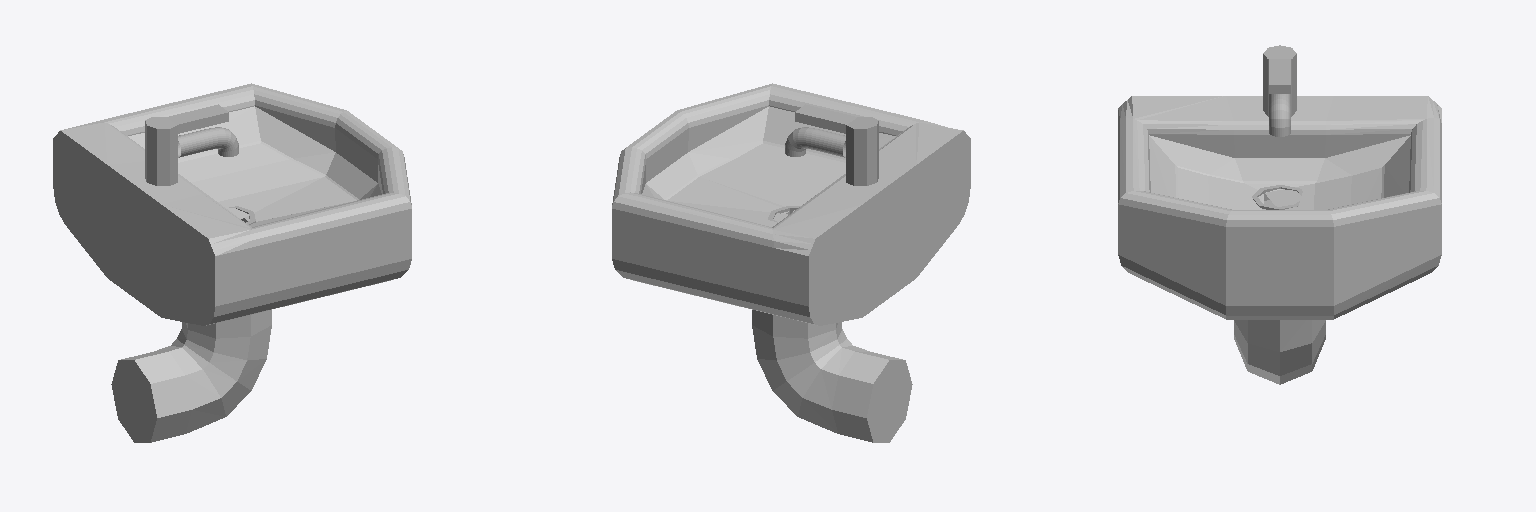
File: washbasin.obj
3 views of the same model, side by side, from view 1: azimuth 30°, elevation 25°; view 2: azimuth 150°, elevation 25°; view 3: azimuth 270°, elevation 25° (orthographic).
Parts seen in each view (by area): view 1: Cube; view 2: Cube; view 3: Cube.
Boxes of the visible parts, x1=… form: Cube: x1=53, y1=83, x2=411, y2=442; Cube: x1=612, y1=83, x2=970, y2=442; Cube: x1=1118, y1=45, x2=1441, y2=384.
Size of the model in its own units: 0.8103 by 1 by 0.9337.